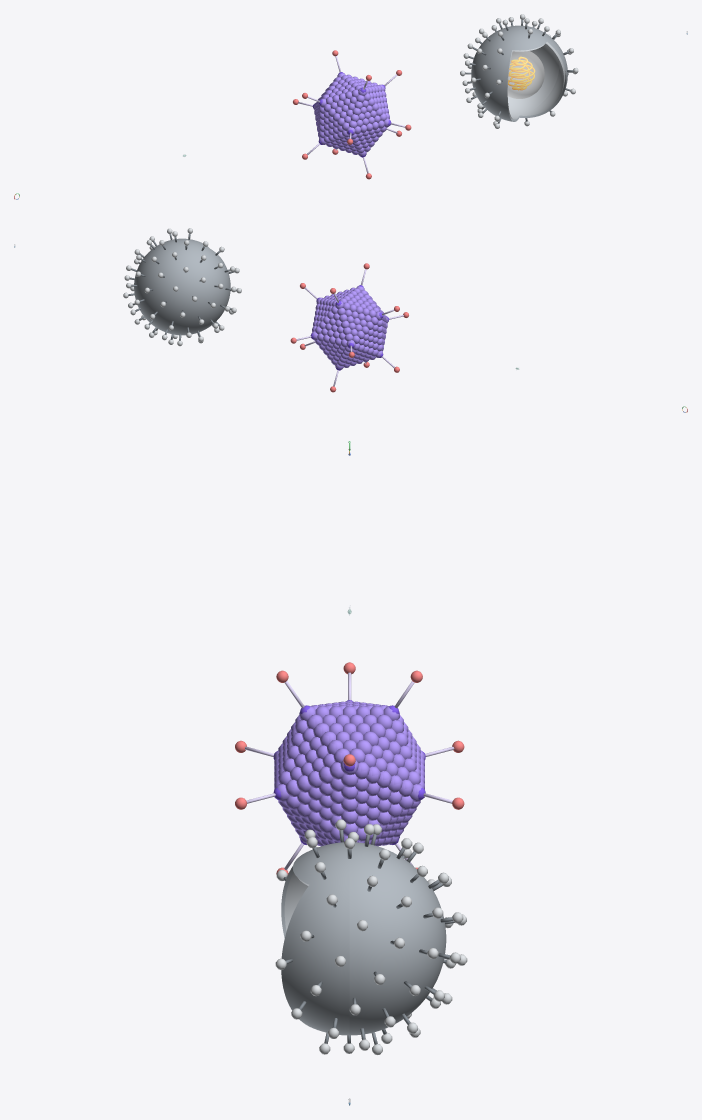
Rendered from kit.glb.
3 views of the same model, one above another, from view 1: azimuth 30°, elevation 25°; view 2: azimuth 150°, elevation 25°; view 3: azimuth 270°, elevation 25° (orthographic). The views are drawn at different scales.
Visible parts, largest first — view 1: retro_envelope, adeno_capsid, retro_core; view 2: retro_envelope, adeno_capsid; view 3: retro_envelope, adeno_capsid.
Part boxes in pixels (x1,y1,x2,y2): retro_envelope: [460, 14, 578, 128]; adeno_capsid: [293, 50, 411, 179]; retro_core: [507, 51, 544, 98]; retro_envelope: [123, 228, 241, 346]; adeno_capsid: [290, 263, 408, 392]; retro_envelope: [275, 819, 467, 1054]; adeno_capsid: [235, 662, 464, 874].
Size of the model in its own units: 804 by 123 by 120.
